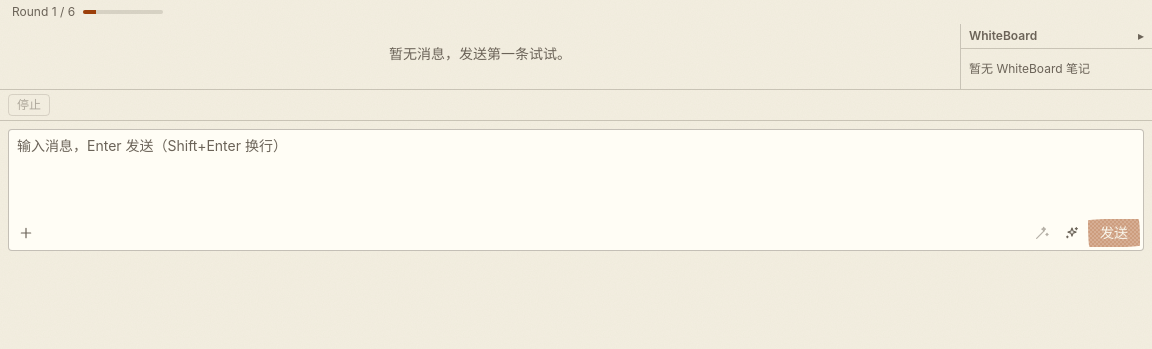
Test: GroupConversationView — stop & failure notices (SPEC 5.8.1-5, 5.8.3) › closes the pill immediately and shows the stopped notice (5a)
Type "讨论" into the text box with placeholder "输入消息，Enter 发送（Shift+Enter 换行）" at (576, 190), box [8,129,1144,251]
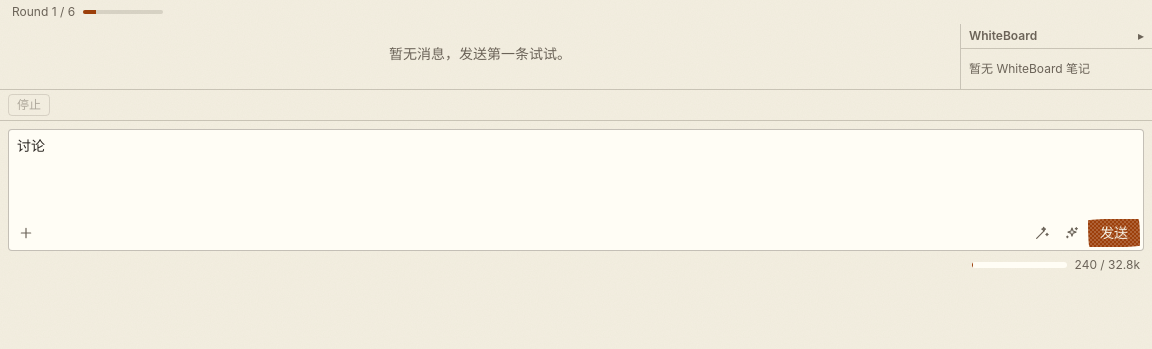
Press Enter in the text box with placeholder "输入消息，Enter 发送（Shift+Enter 换行）", box [8,129,1144,251]
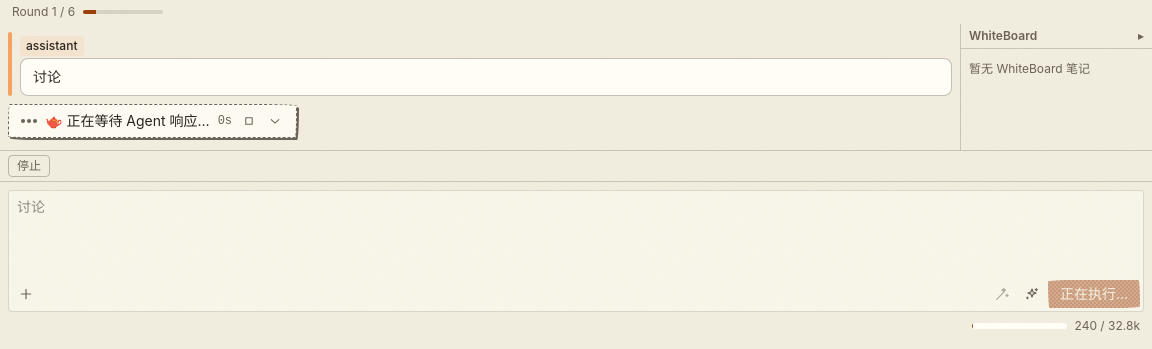
Result: the element with test id "group-pill-slot" is shown at [8,104,297,138]
Click the button named "停止" at (249, 121), box [240,112,258,130]
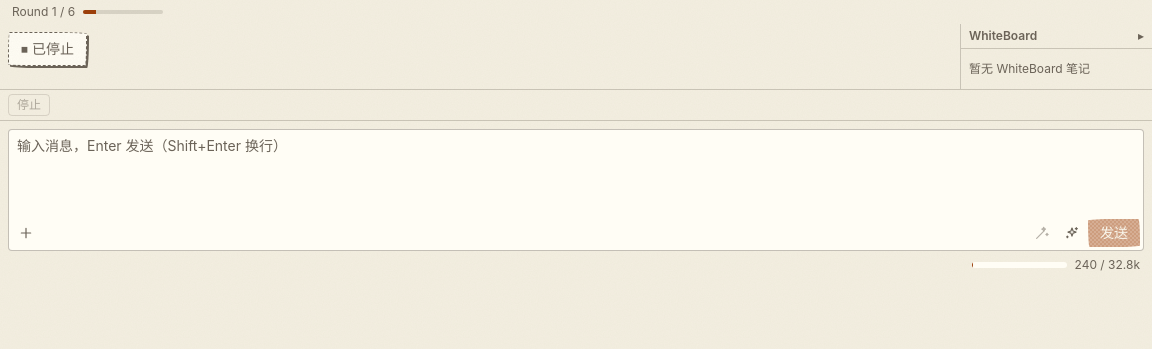
Result: the element with test id "group-pill-slot" is gone
Result: the text "⏹ 已停止" is shown at [21,39,74,59]
